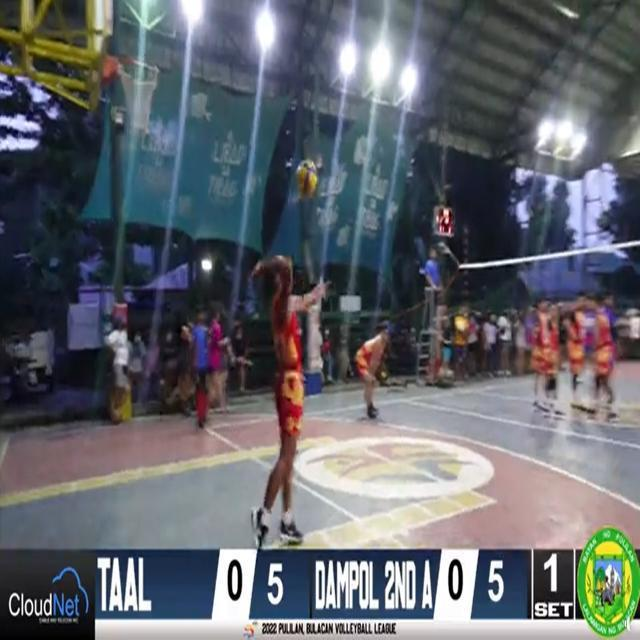volleyball: (296, 161, 318, 195)
